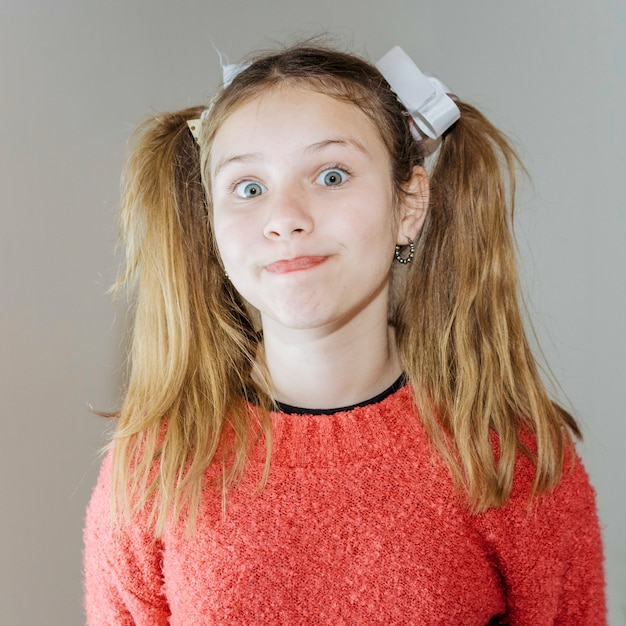teen: (167, 30, 438, 380)
